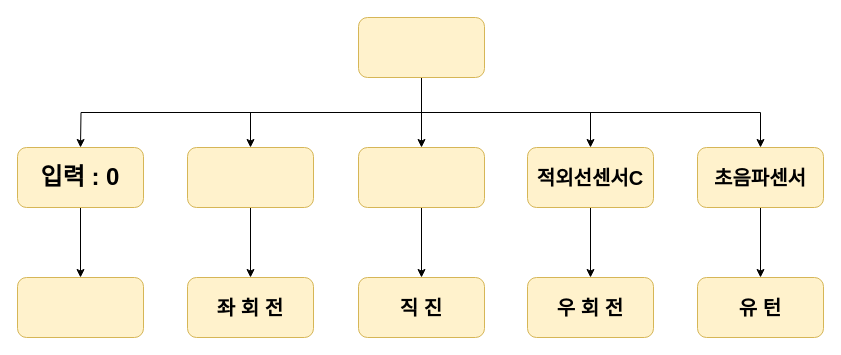
The diagram is 841 pixels wide and 355 high, and some of its shapes have lost their labels. Here are the shapes that lost their labels. From the top down, the centre of each, then its label:
At (421,47): "라인트레이서".
At (250,177): "적외선센서A".
At (421,177): "적외선센서B".
At (80,307): "후 진".
